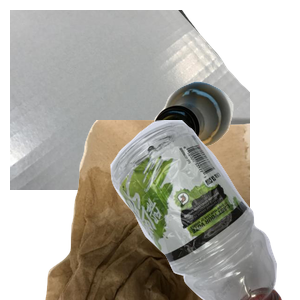cardboard: (10, 10, 250, 190)
glass: (151, 79, 300, 221)
plastic: (73, 120, 300, 300)
trash: (43, 120, 283, 300)
